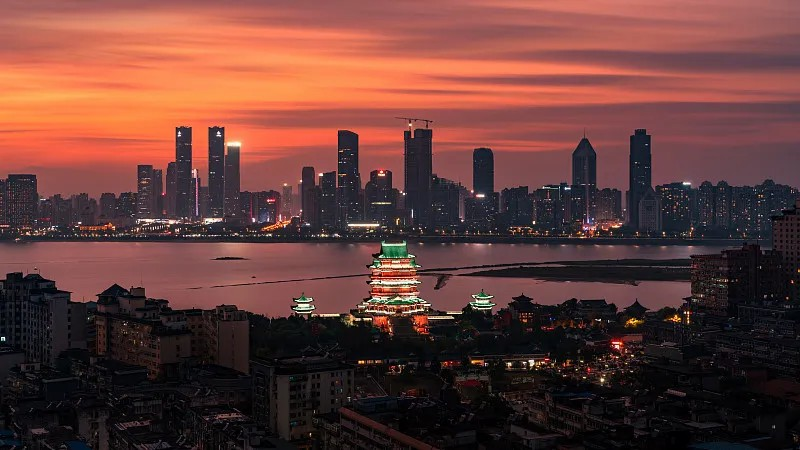Teng: (358, 239, 430, 312)
